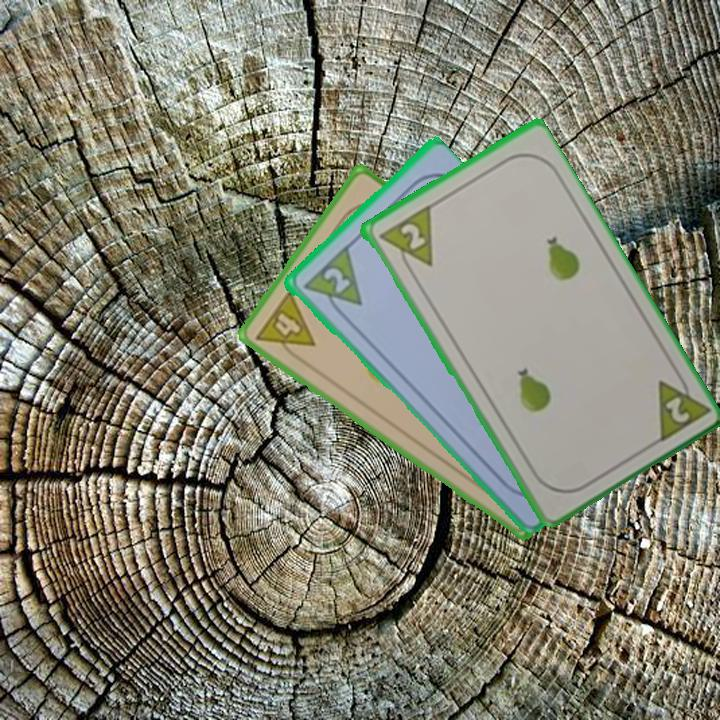2p: (298, 243, 365, 322), (651, 365, 710, 446), (374, 202, 436, 279)
4p: (251, 286, 318, 366)
